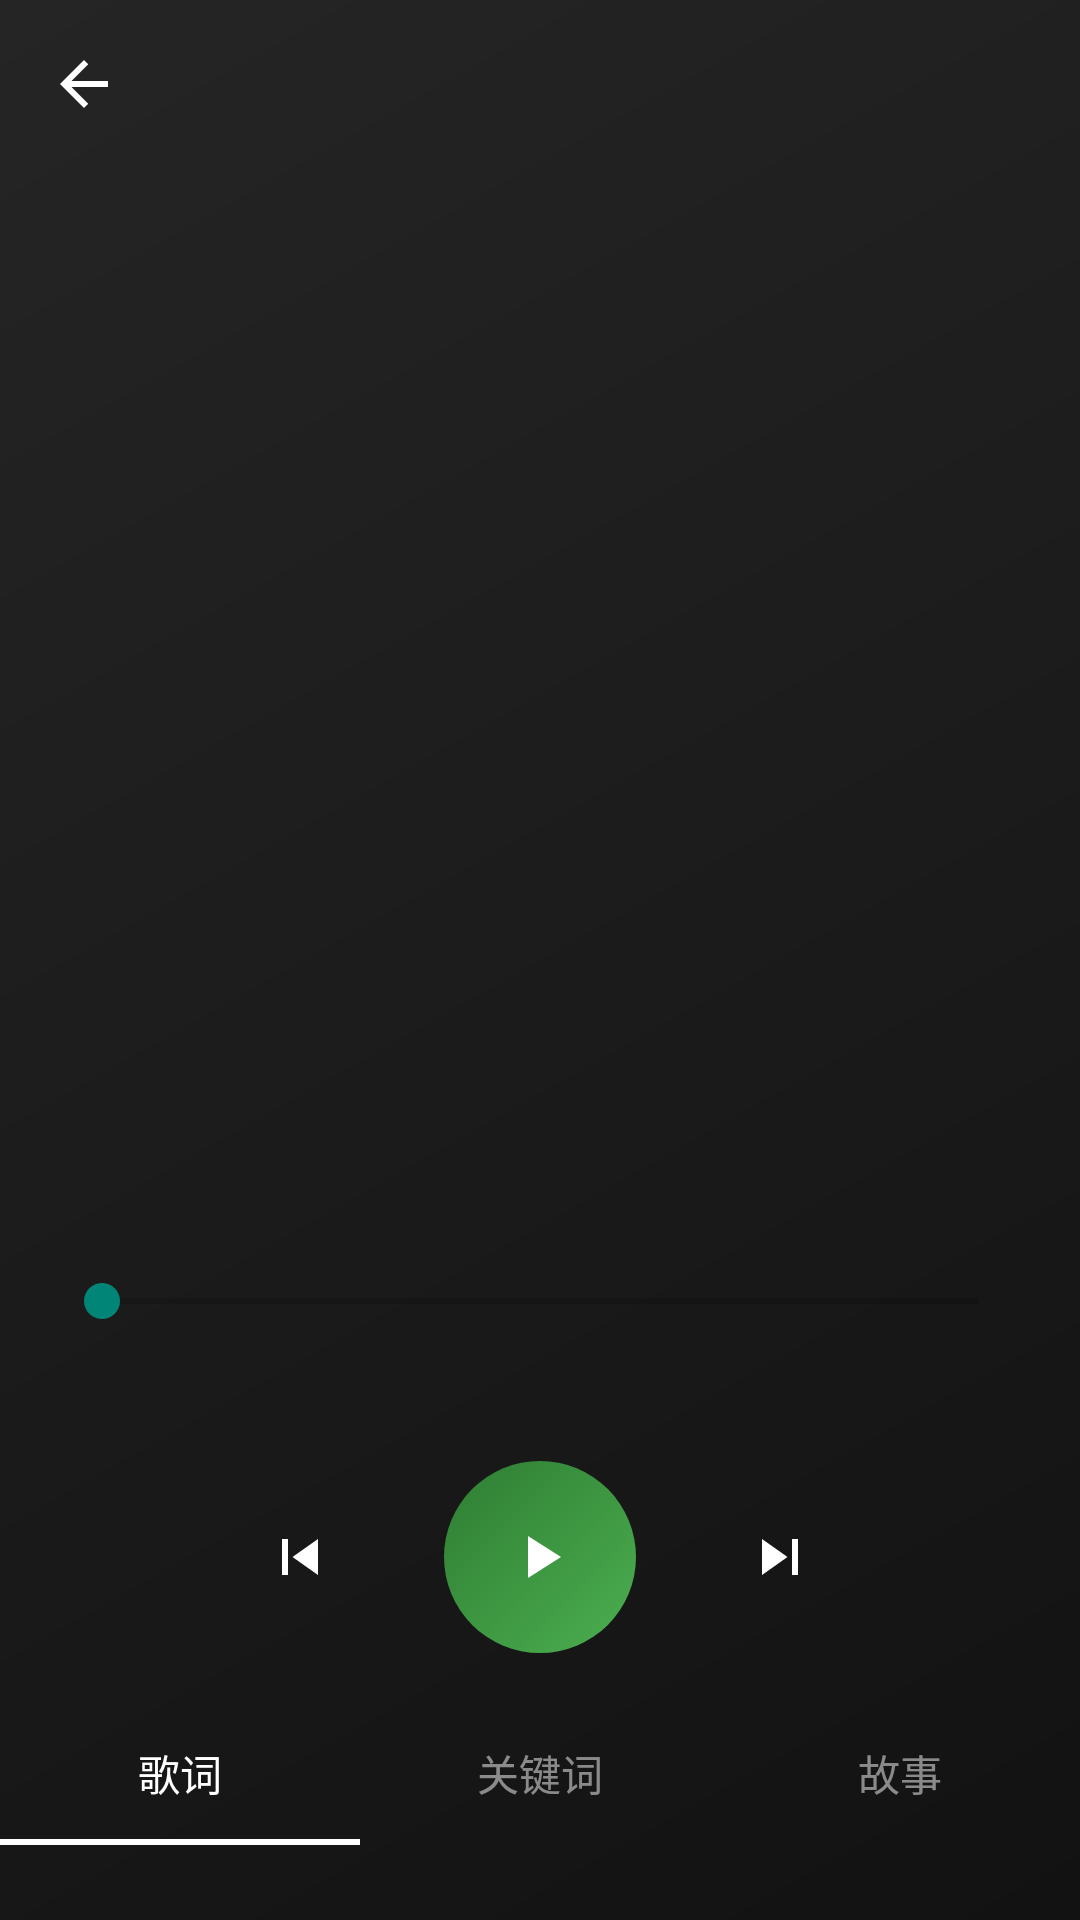

Screen size 1080x1920. Icon name, then its box in pixels as [x1, y1, x2, y2]:
上一曲: [282, 1539, 318, 1575]
下一曲: [762, 1539, 798, 1575]
播放/暂停: [444, 1461, 636, 1653]
